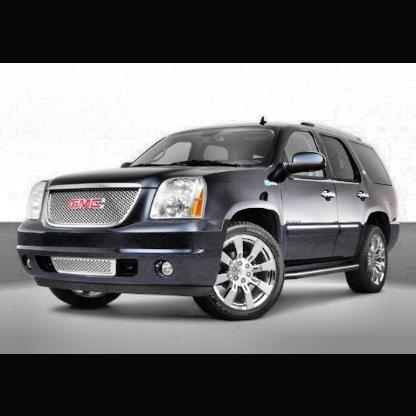GMC Yukon Hybrid SUV 2012: (19, 116, 402, 324)
